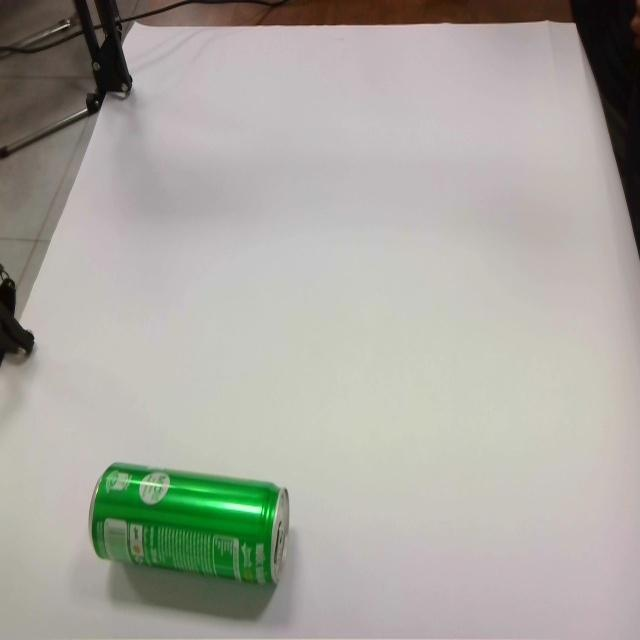debris: (87, 461, 292, 621)
